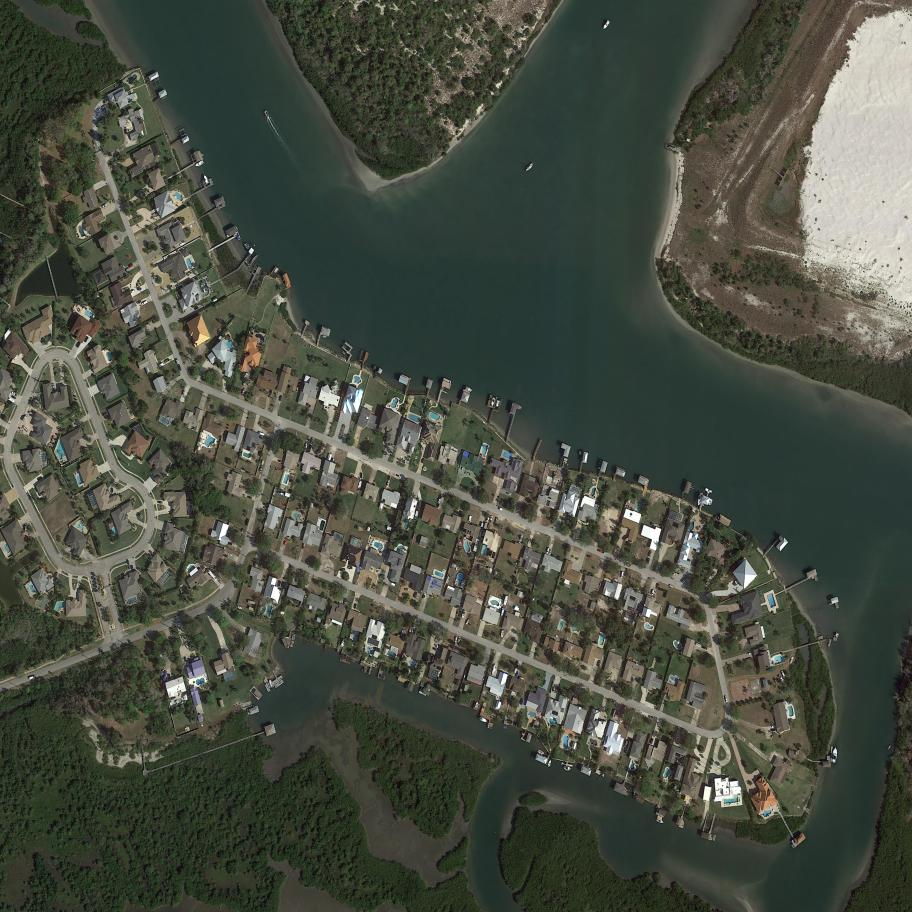ship: (831, 746, 839, 764), (696, 492, 704, 506), (491, 663, 498, 676), (477, 716, 488, 724), (202, 174, 209, 186), (195, 160, 205, 168), (464, 385, 473, 393), (7, 396, 16, 403), (357, 480, 363, 490), (500, 606, 505, 617), (500, 629, 506, 638), (495, 399, 501, 408), (656, 818, 665, 824), (562, 765, 571, 771), (491, 396, 496, 406), (101, 203, 109, 209), (547, 759, 553, 767), (445, 575, 451, 583), (461, 610, 466, 619), (468, 515, 472, 523), (274, 267, 279, 273), (336, 478, 340, 485)
small-vehicle: (21, 414, 28, 423), (777, 674, 784, 681), (597, 548, 605, 554), (11, 391, 18, 397), (305, 402, 312, 408), (488, 515, 494, 522), (756, 730, 764, 735), (418, 442, 423, 450), (241, 388, 246, 396), (486, 514, 491, 522), (246, 380, 252, 386), (217, 578, 223, 584), (149, 550, 155, 556), (10, 395, 17, 400), (177, 364, 182, 371), (141, 300, 148, 305), (100, 105, 107, 110), (773, 678, 778, 685), (780, 670, 785, 677), (701, 645, 708, 650), (620, 571, 625, 578), (586, 554, 593, 559), (465, 618, 470, 625), (28, 675, 35, 680), (497, 506, 504, 511), (597, 660, 601, 668), (259, 465, 263, 473), (438, 495, 442, 503), (28, 411, 34, 416), (181, 390, 186, 396), (650, 590, 655, 596), (669, 584, 675, 589), (433, 643, 439, 648), (227, 541, 233, 546), (227, 552, 233, 557), (246, 495, 252, 500), (422, 594, 427, 600), (465, 471, 471, 476), (505, 491, 511, 496), (295, 387, 300, 393), (543, 680, 547, 687), (516, 661, 520, 668), (457, 636, 461, 643), (646, 558, 650, 565), (278, 580, 282, 587), (343, 598, 347, 605), (519, 534, 523, 541), (283, 539, 287, 546), (269, 389, 273, 396), (359, 471, 363, 478), (103, 99, 108, 104), (164, 358, 169, 363), (194, 305, 199, 310), (128, 263, 133, 268), (52, 384, 55, 392), (136, 301, 142, 305), (130, 290, 136, 294), (552, 686, 556, 692), (650, 738, 654, 744), (725, 695, 728, 703), (546, 547, 550, 553), (515, 671, 519, 677), (262, 502, 268, 506), (432, 647, 438, 651), (278, 395, 282, 401), (183, 656, 187, 662), (262, 506, 268, 510), (440, 464, 444, 470), (422, 458, 426, 464), (386, 481, 390, 487), (455, 636, 458, 643), (649, 550, 652, 557), (302, 543, 305, 550), (55, 572, 59, 577), (747, 652, 752, 656), (548, 549, 552, 554), (223, 553, 228, 557), (157, 501, 163, 504), (354, 603, 357, 609), (128, 564, 131, 570), (126, 558, 129, 564), (25, 523, 27, 531), (278, 460, 283, 463), (404, 588, 409, 591), (388, 475, 391, 480), (415, 592, 417, 599), (111, 487, 113, 494), (166, 383, 170, 386), (243, 381, 245, 386)
